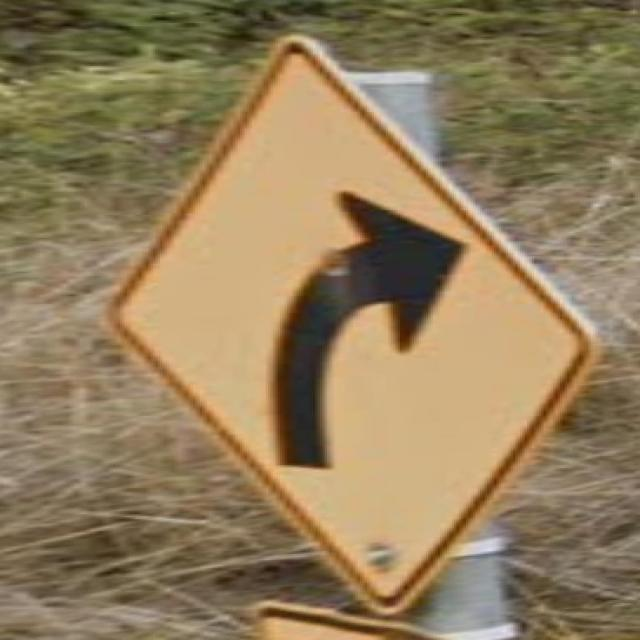Tikungan Ke Kanan: (94, 31, 600, 614)
